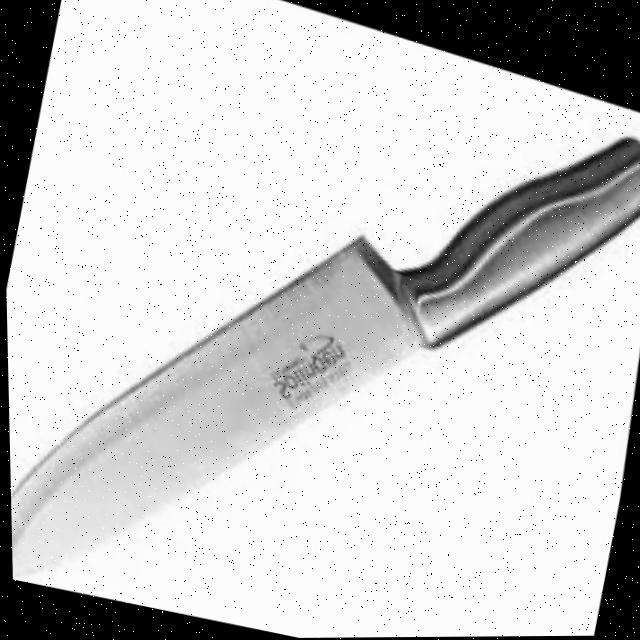knife: (0, 13, 640, 640)
